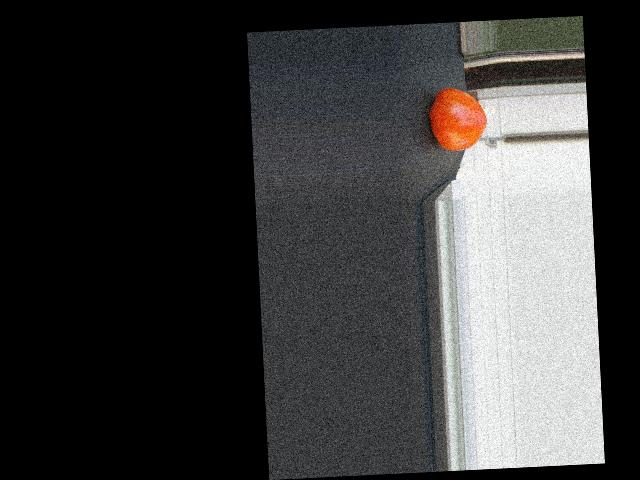tomato: (428, 86, 488, 152)
